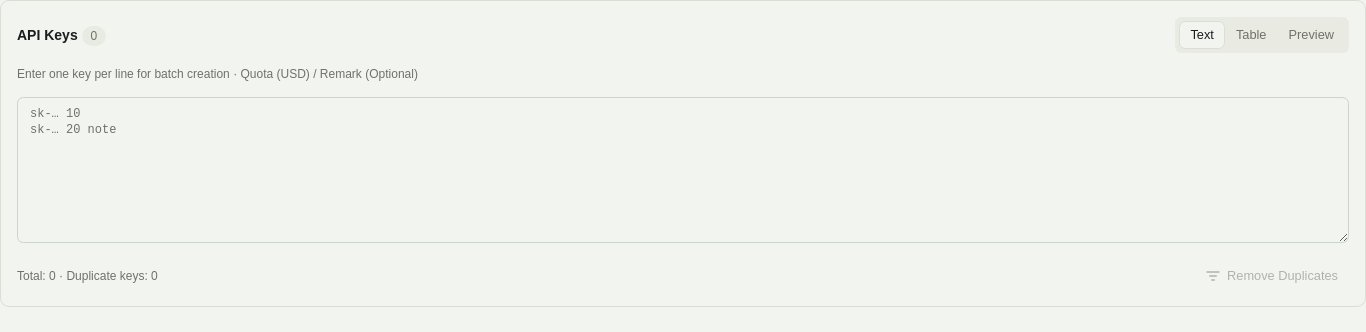
it: batch Key editor › supports empty table rows and keeps the remaining row after deleting an entry
Click the button "Table".
click(1251, 35)  # box [1225,21,1278,49]
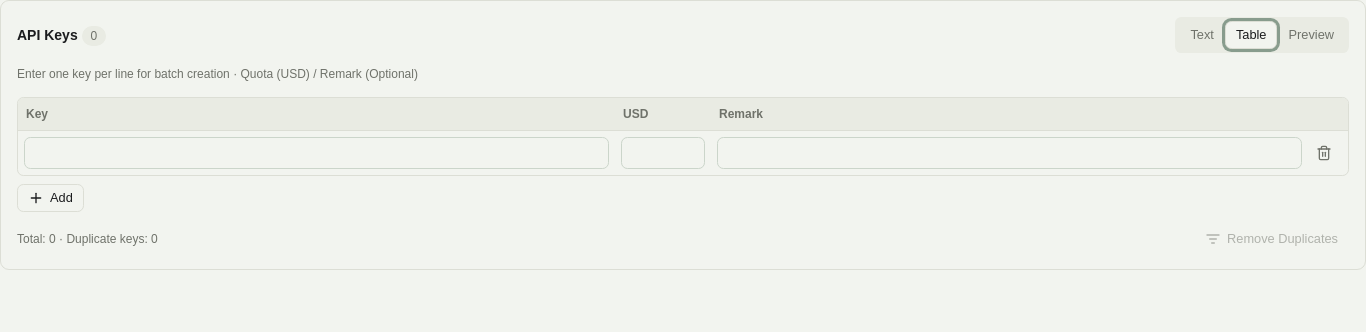
Type "first" into the field named "Key 1".
click(316, 152); type("first")  # box [24,136,609,168]
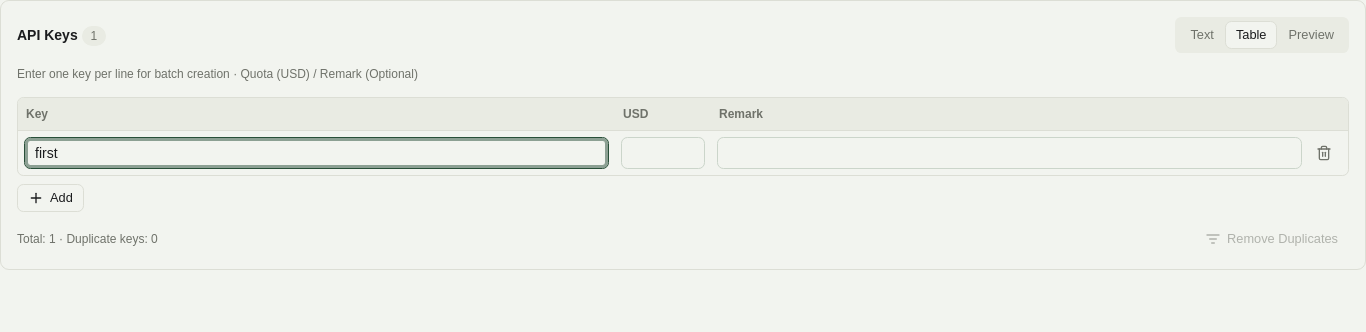
Click the button "Add".
click(50, 198)  # box [17,184,84,212]
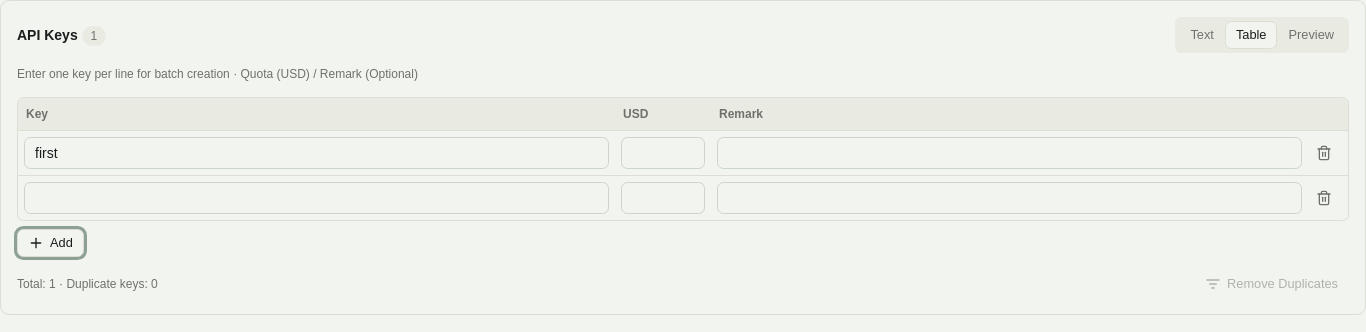
Type "second" into the field named "Key 2".
click(316, 198); type("second")  # box [24,182,609,214]
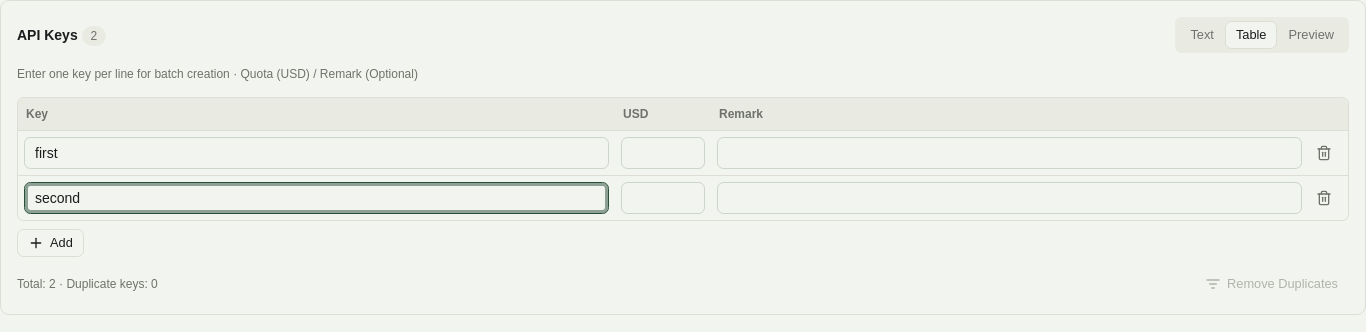
Click the button named "Delete 1".
click(1324, 152)  # box [1308,136,1340,168]
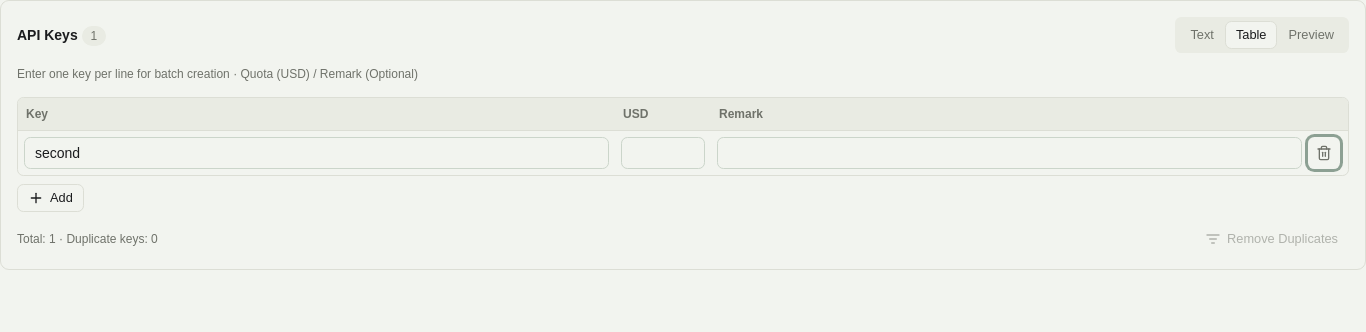
Click the button "Text".
click(1202, 35)  # box [1179,21,1225,49]
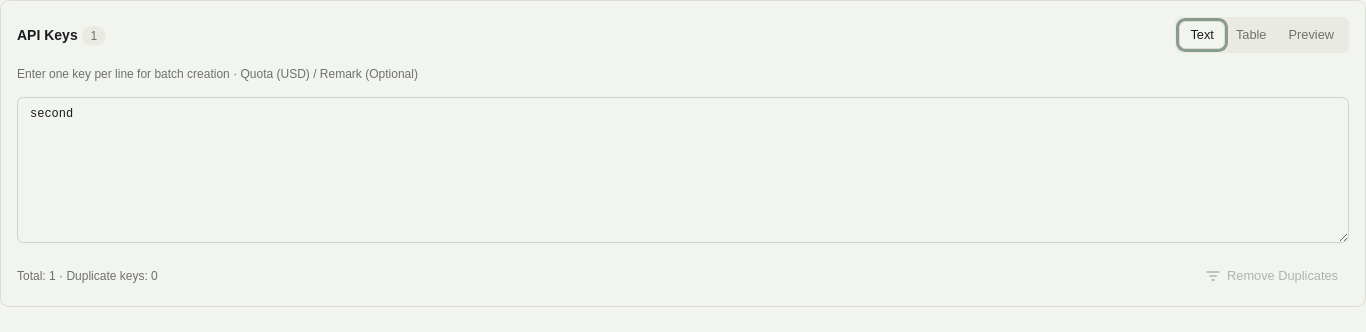
Expected: the text box holds "second", [17,96,1349,242]
